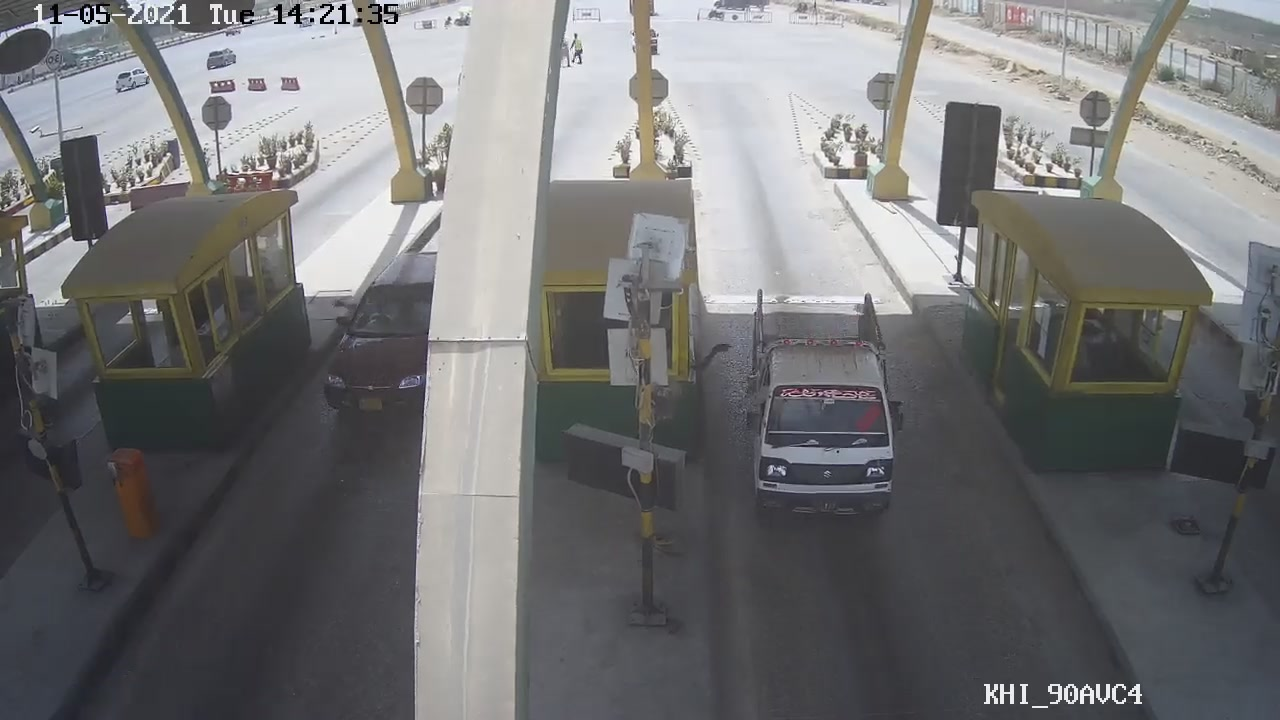F1: (735, 285, 915, 525)
